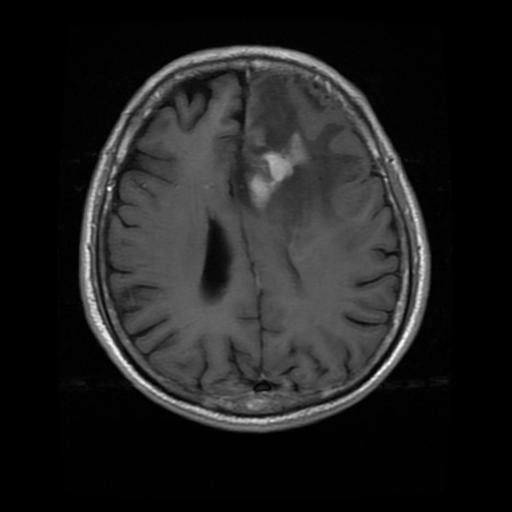Tumour-Glioma: (249, 140, 305, 208)
